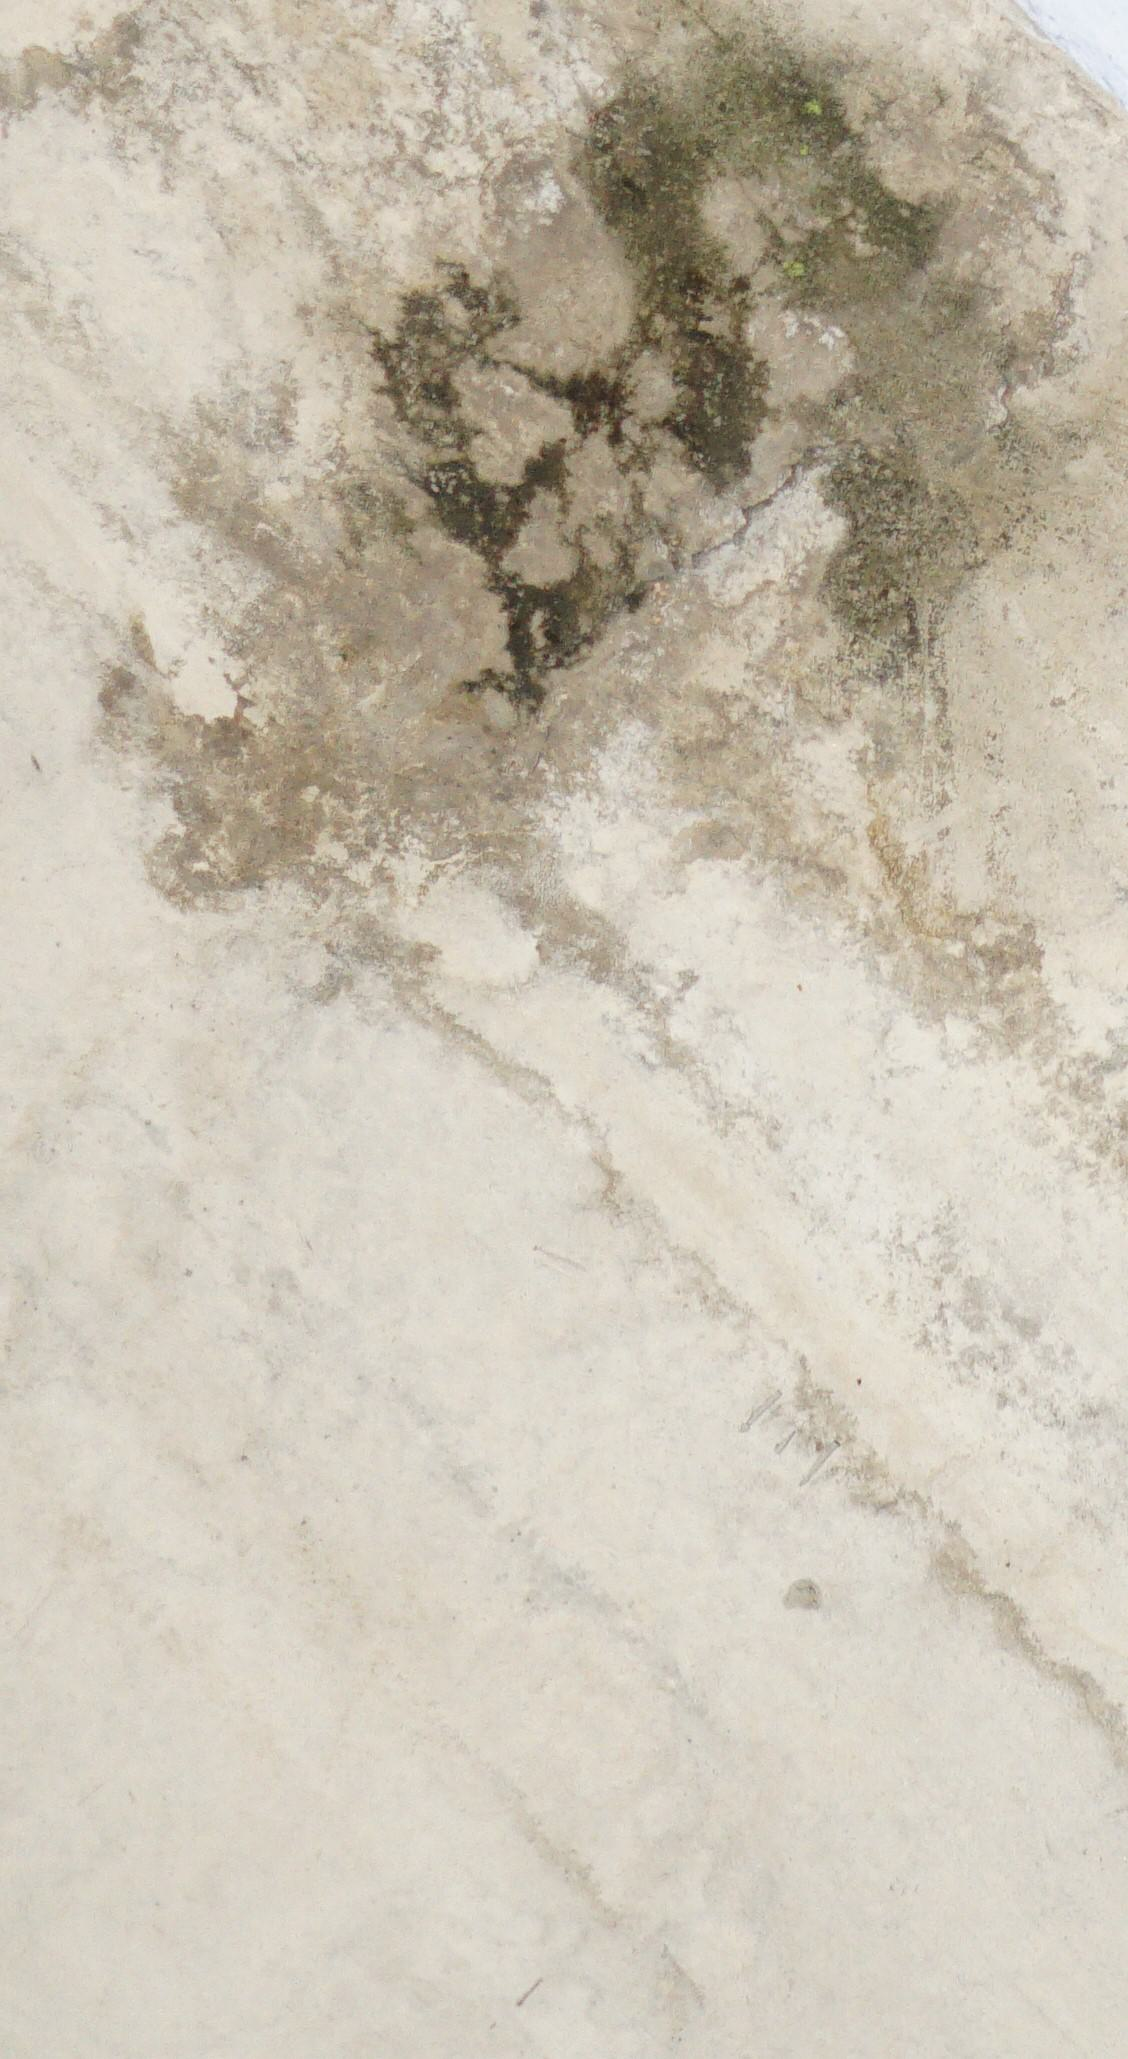Corrosion: (1, 1, 1128, 1177)
